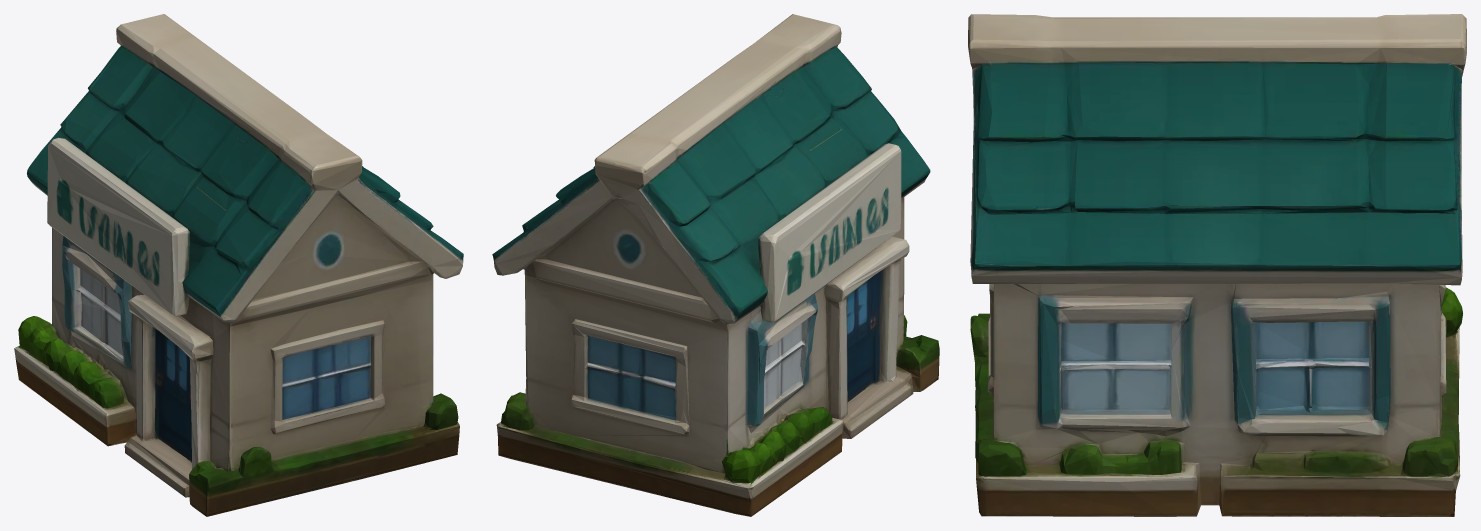
Rendered from blue_roof_business.glb.
3 views of the same model, side by side, from view 1: azimuth 30°, elevation 25°; view 2: azimuth 150°, elevation 25°; view 3: azimuth 270°, elevation 25° (orthographic). The views are drawn at different scales.
Parts seen in each view (by area): view 1: geometry_0; view 2: geometry_0; view 3: geometry_0.
Boxes of the visible parts, left/top/right/bottom form: geometry_0: left=14, top=14, right=463, bottom=516; geometry_0: left=492, top=14, right=939, bottom=516; geometry_0: left=968, top=14, right=1466, bottom=516.
Bounding box in the file's own units: 0.367 × 0.4435 × 0.4847.
1 material, 1 textured.
